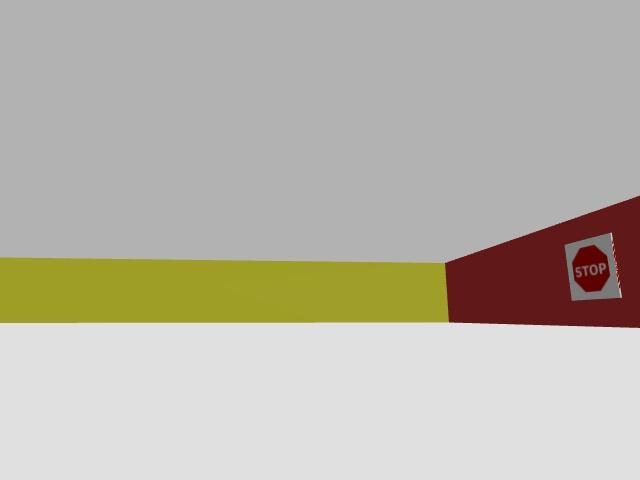stop: (566, 233, 621, 300)
